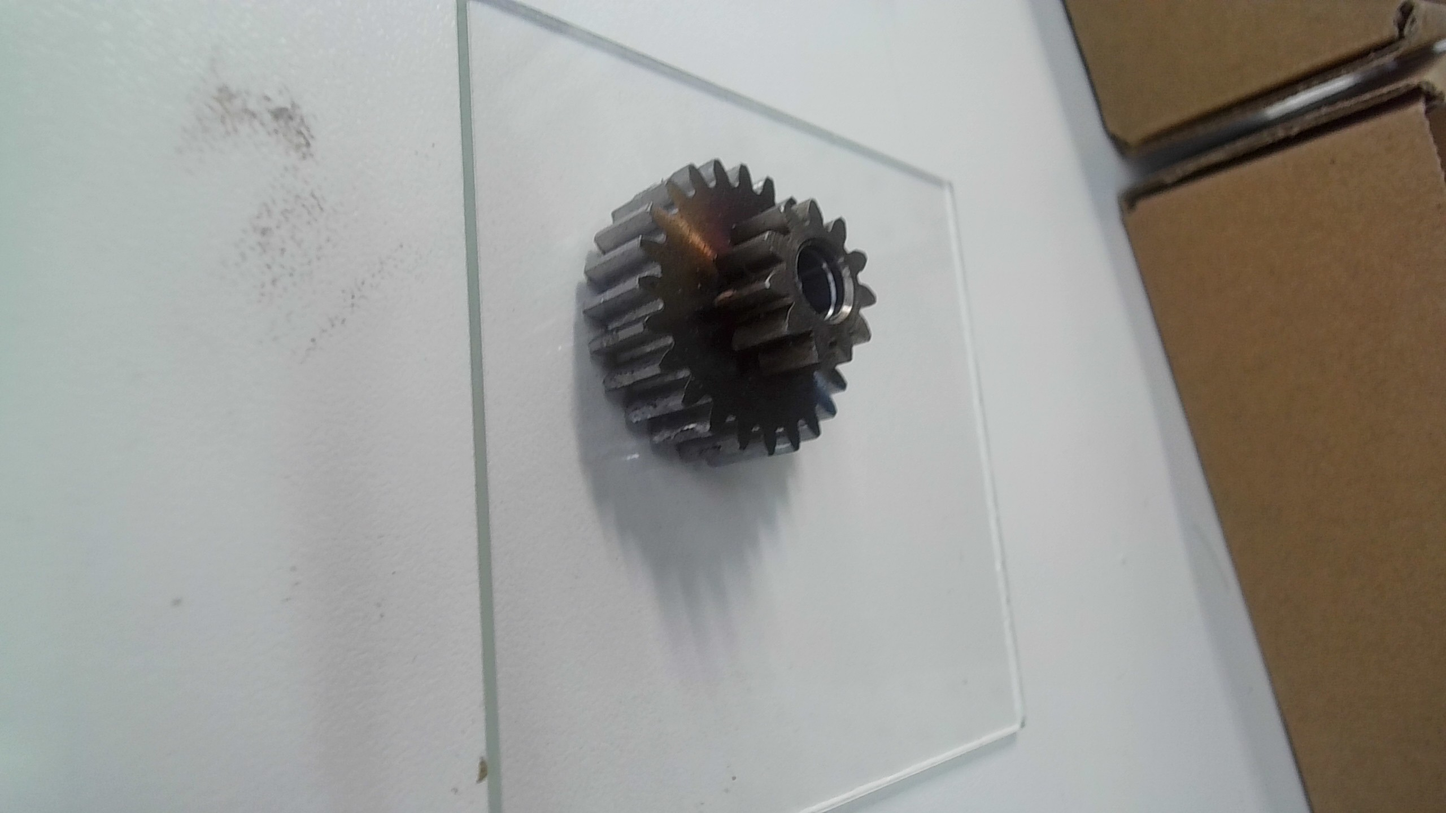gear: (582, 151, 879, 470)
